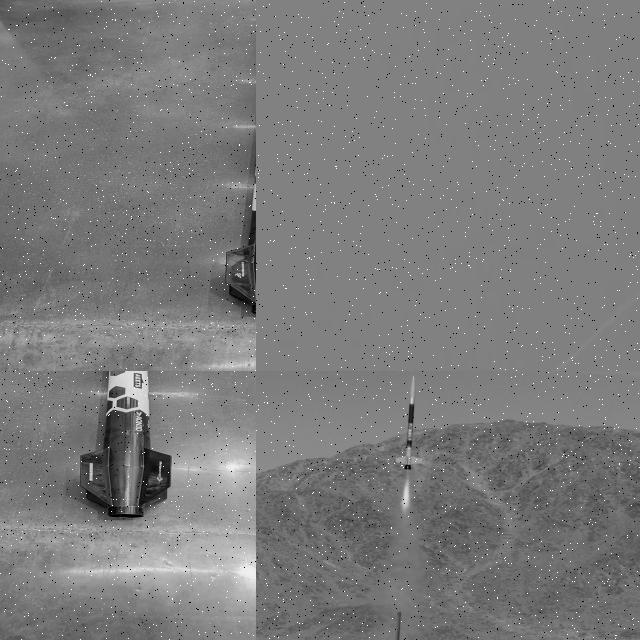Rocket: (80, 371, 172, 519), (395, 375, 423, 470)
